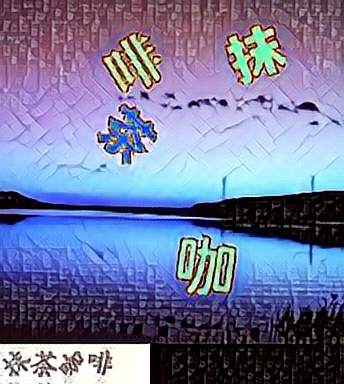B2E8: (98, 103, 158, 167)
B7C8: (102, 30, 162, 94)
BFA7: (174, 233, 234, 297)
C4A8: (222, 23, 282, 87)
